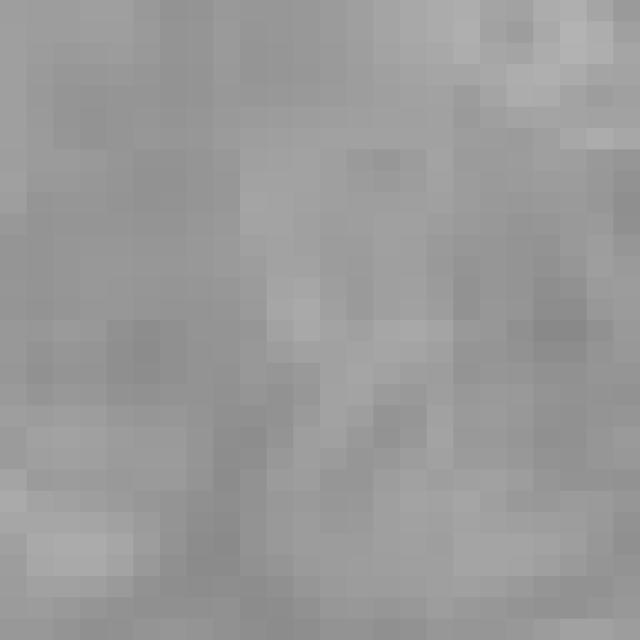fracture: (11, 10, 640, 640)
